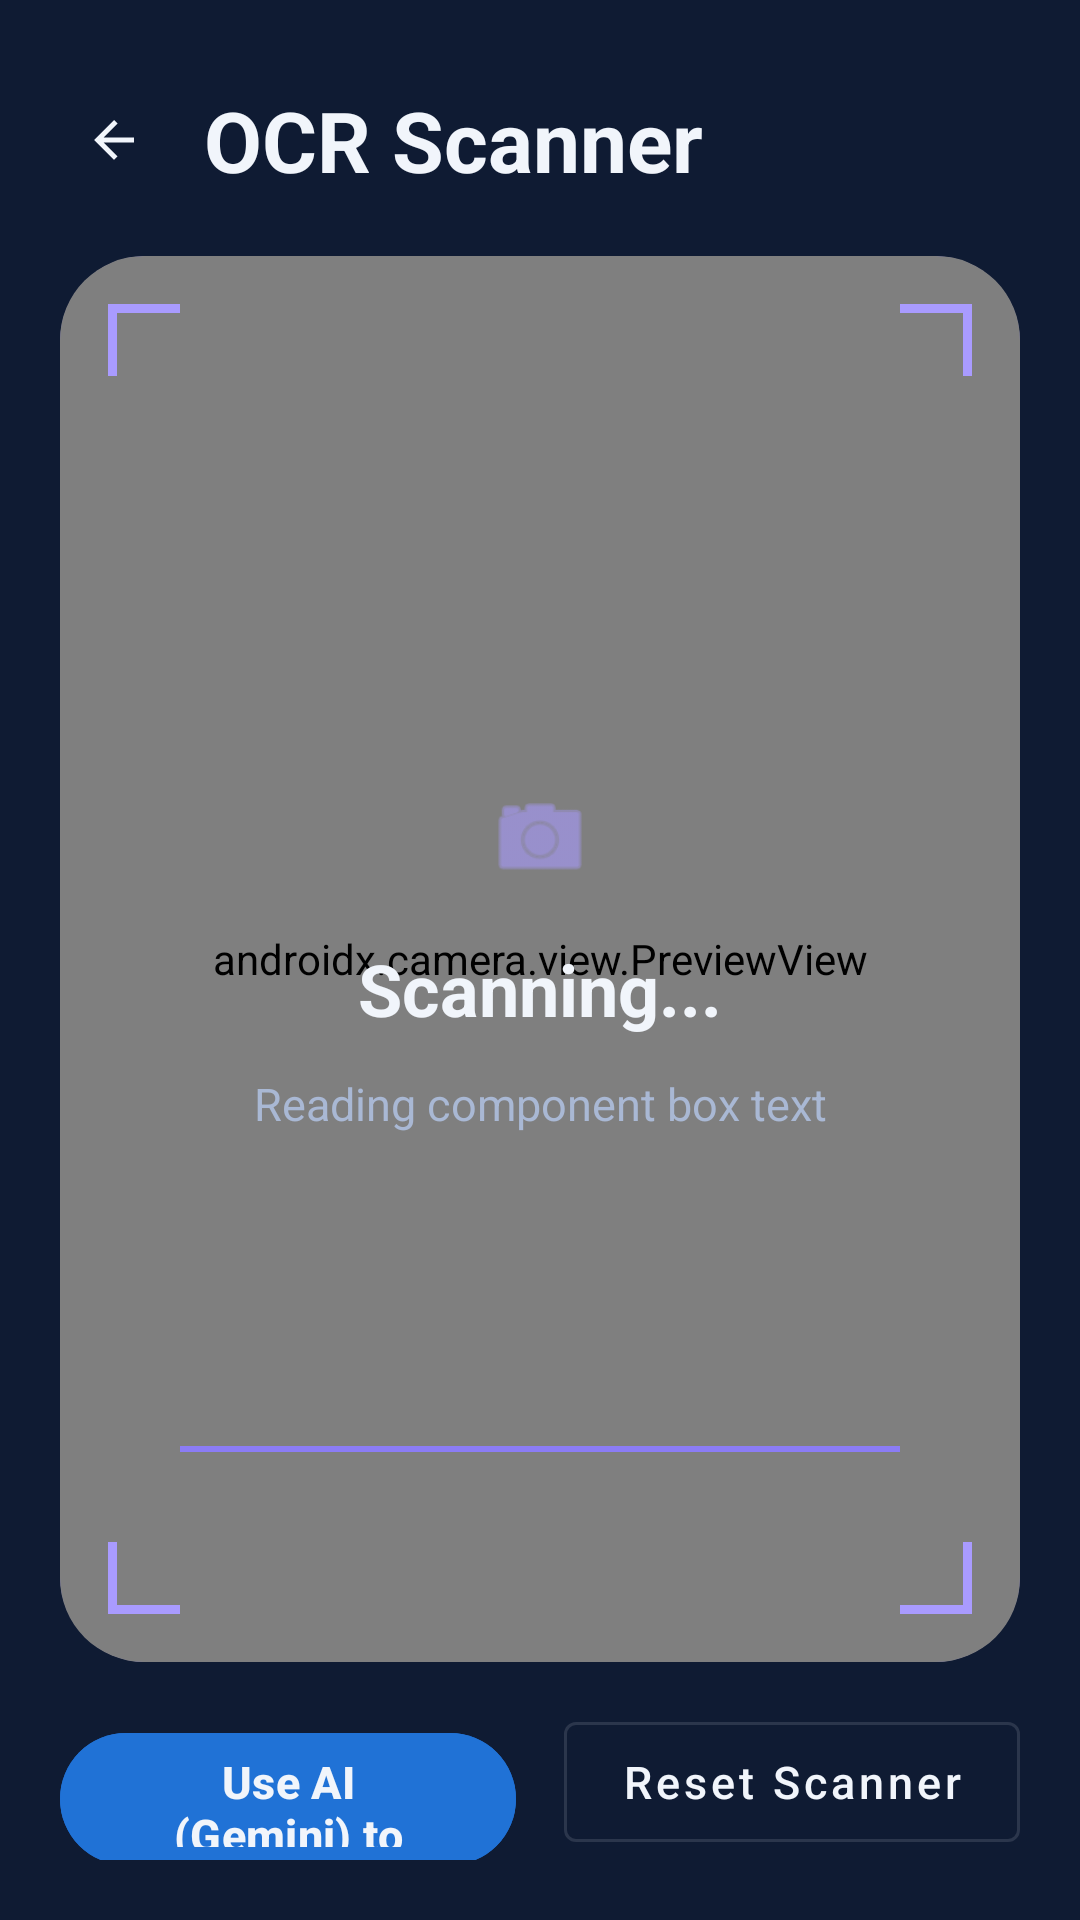

Icons on this 1080w x 1920h Android screen, each with its box as (x1, y1, x2, y2):
arrow back: (94, 120, 134, 160)
